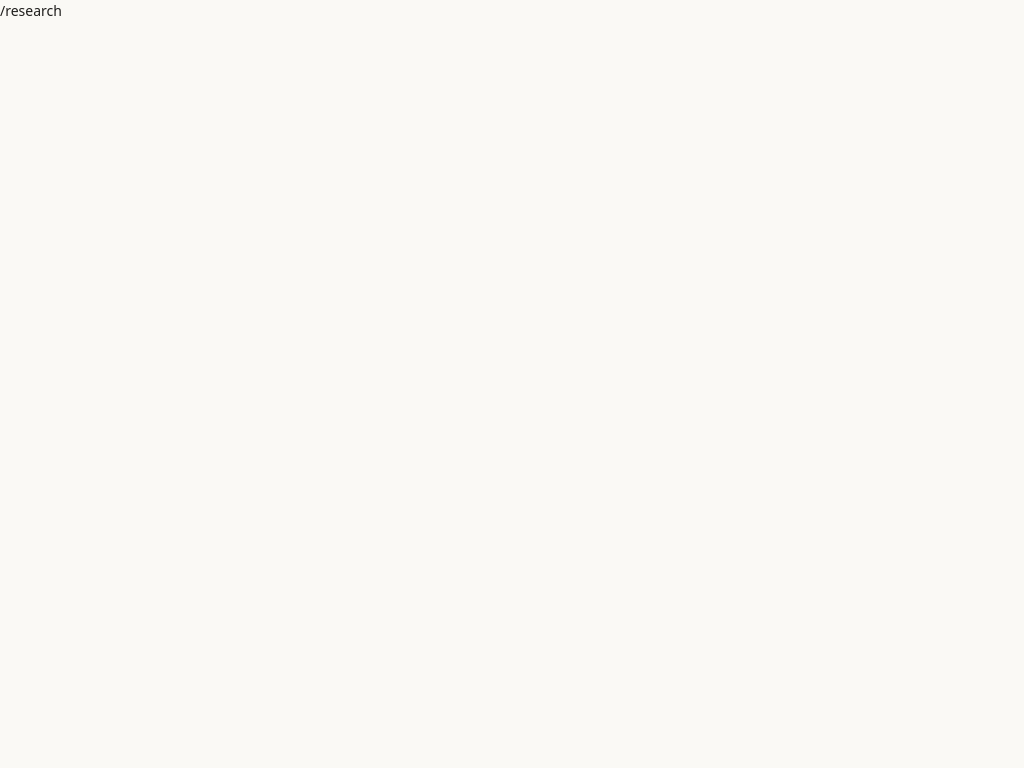
Test case: CommandPalette (S26A ⌘K) › supports arrow-key selection, Escape close, and english keywords
Press k
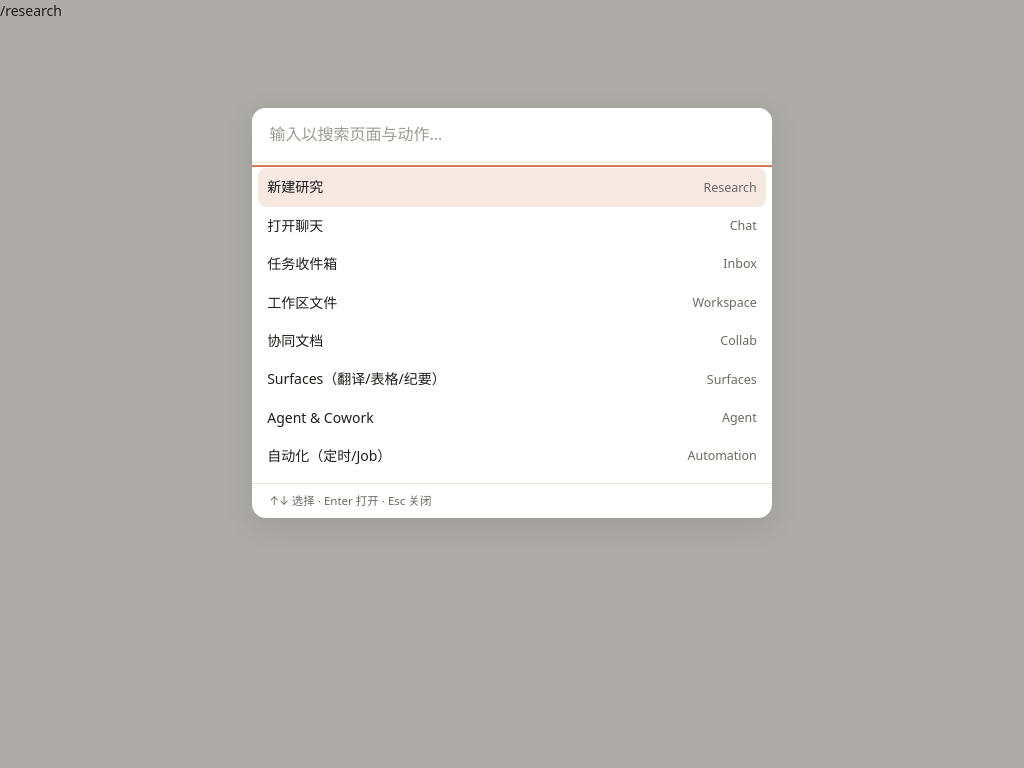
In the field named "搜索命令": (512,135) [252,108,772,163], type "chat"
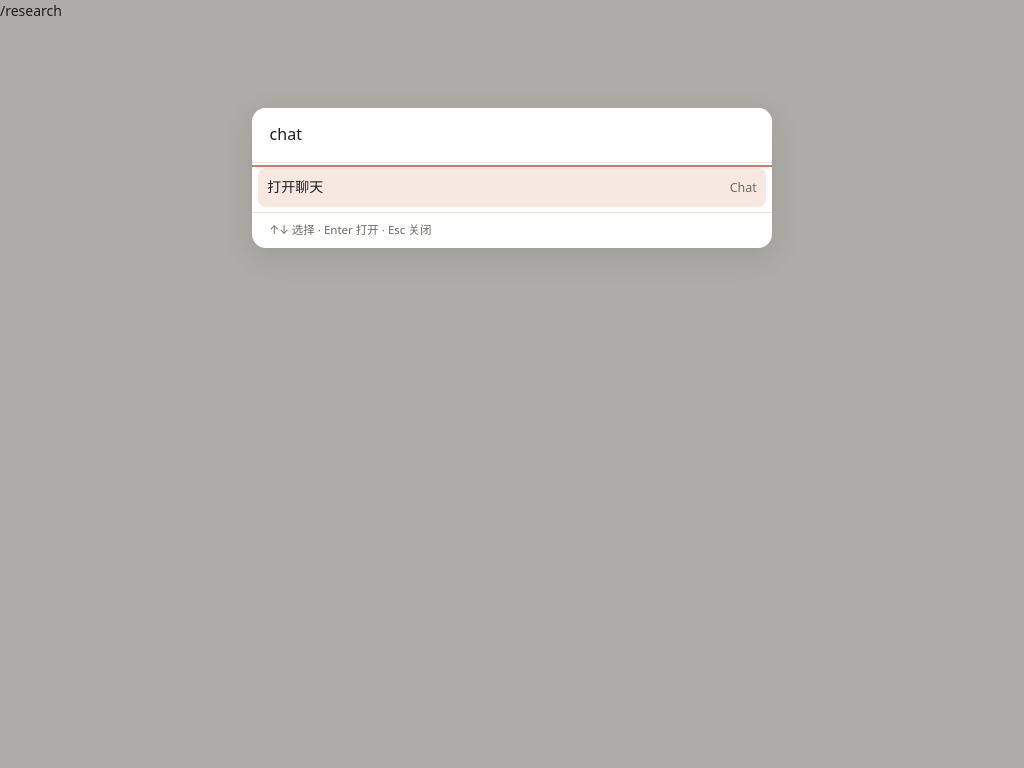
Press ArrowDown in the field named "搜索命令", box [252,108,772,163]
Press ArrowUp in the field named "搜索命令", box [252,108,772,163]
Expected: the option shows "打开聊天", [258,168,766,207]
Press Escape
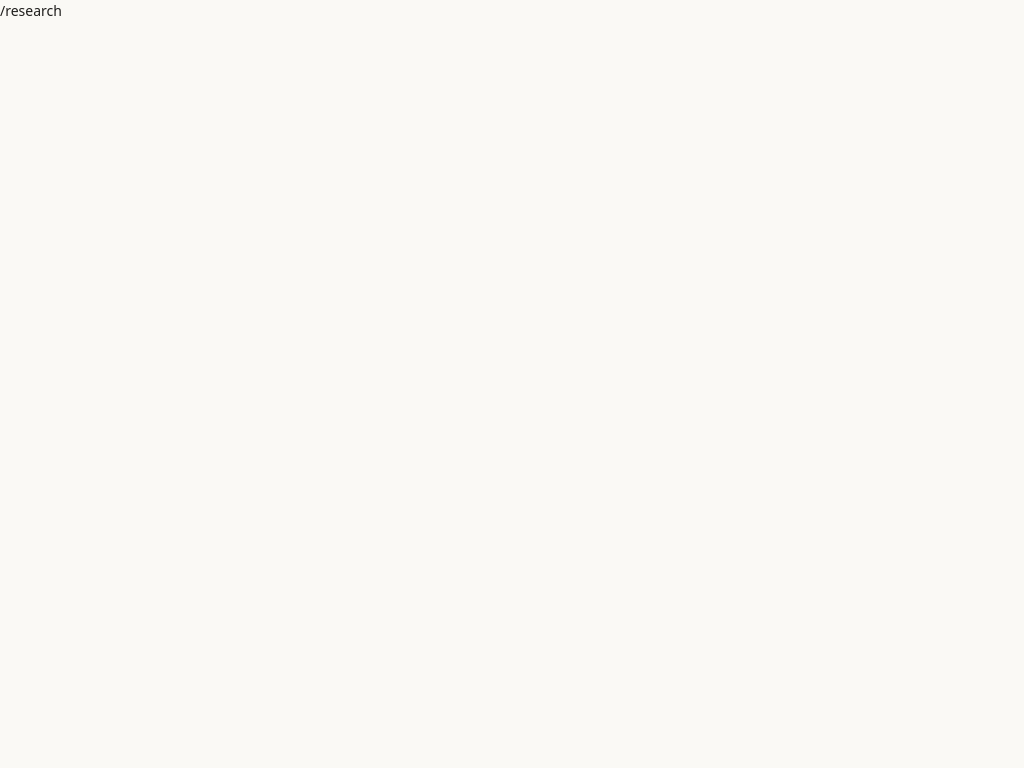
Expected: the dialog is gone
